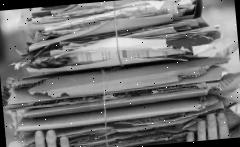paper: (2, 54, 232, 110), (22, 24, 223, 75), (14, 94, 223, 132), (18, 0, 199, 32)
